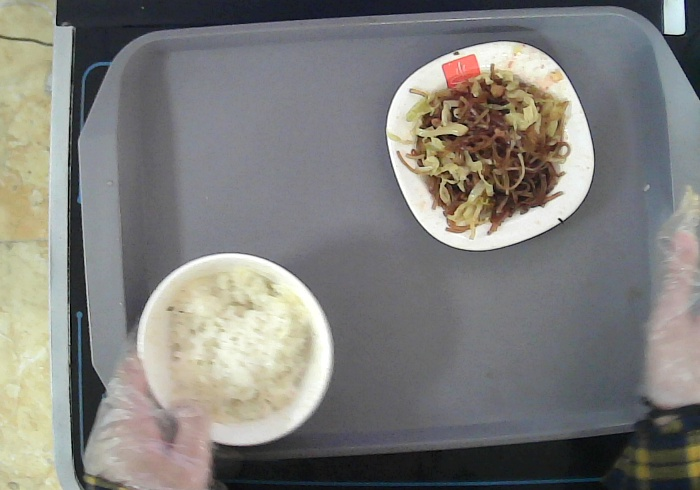SHKJ-Bai_Se_Si_Fang_Cai_Die: (384, 38, 597, 252)
SHKJ-Fan_Wan: (135, 250, 336, 448)
